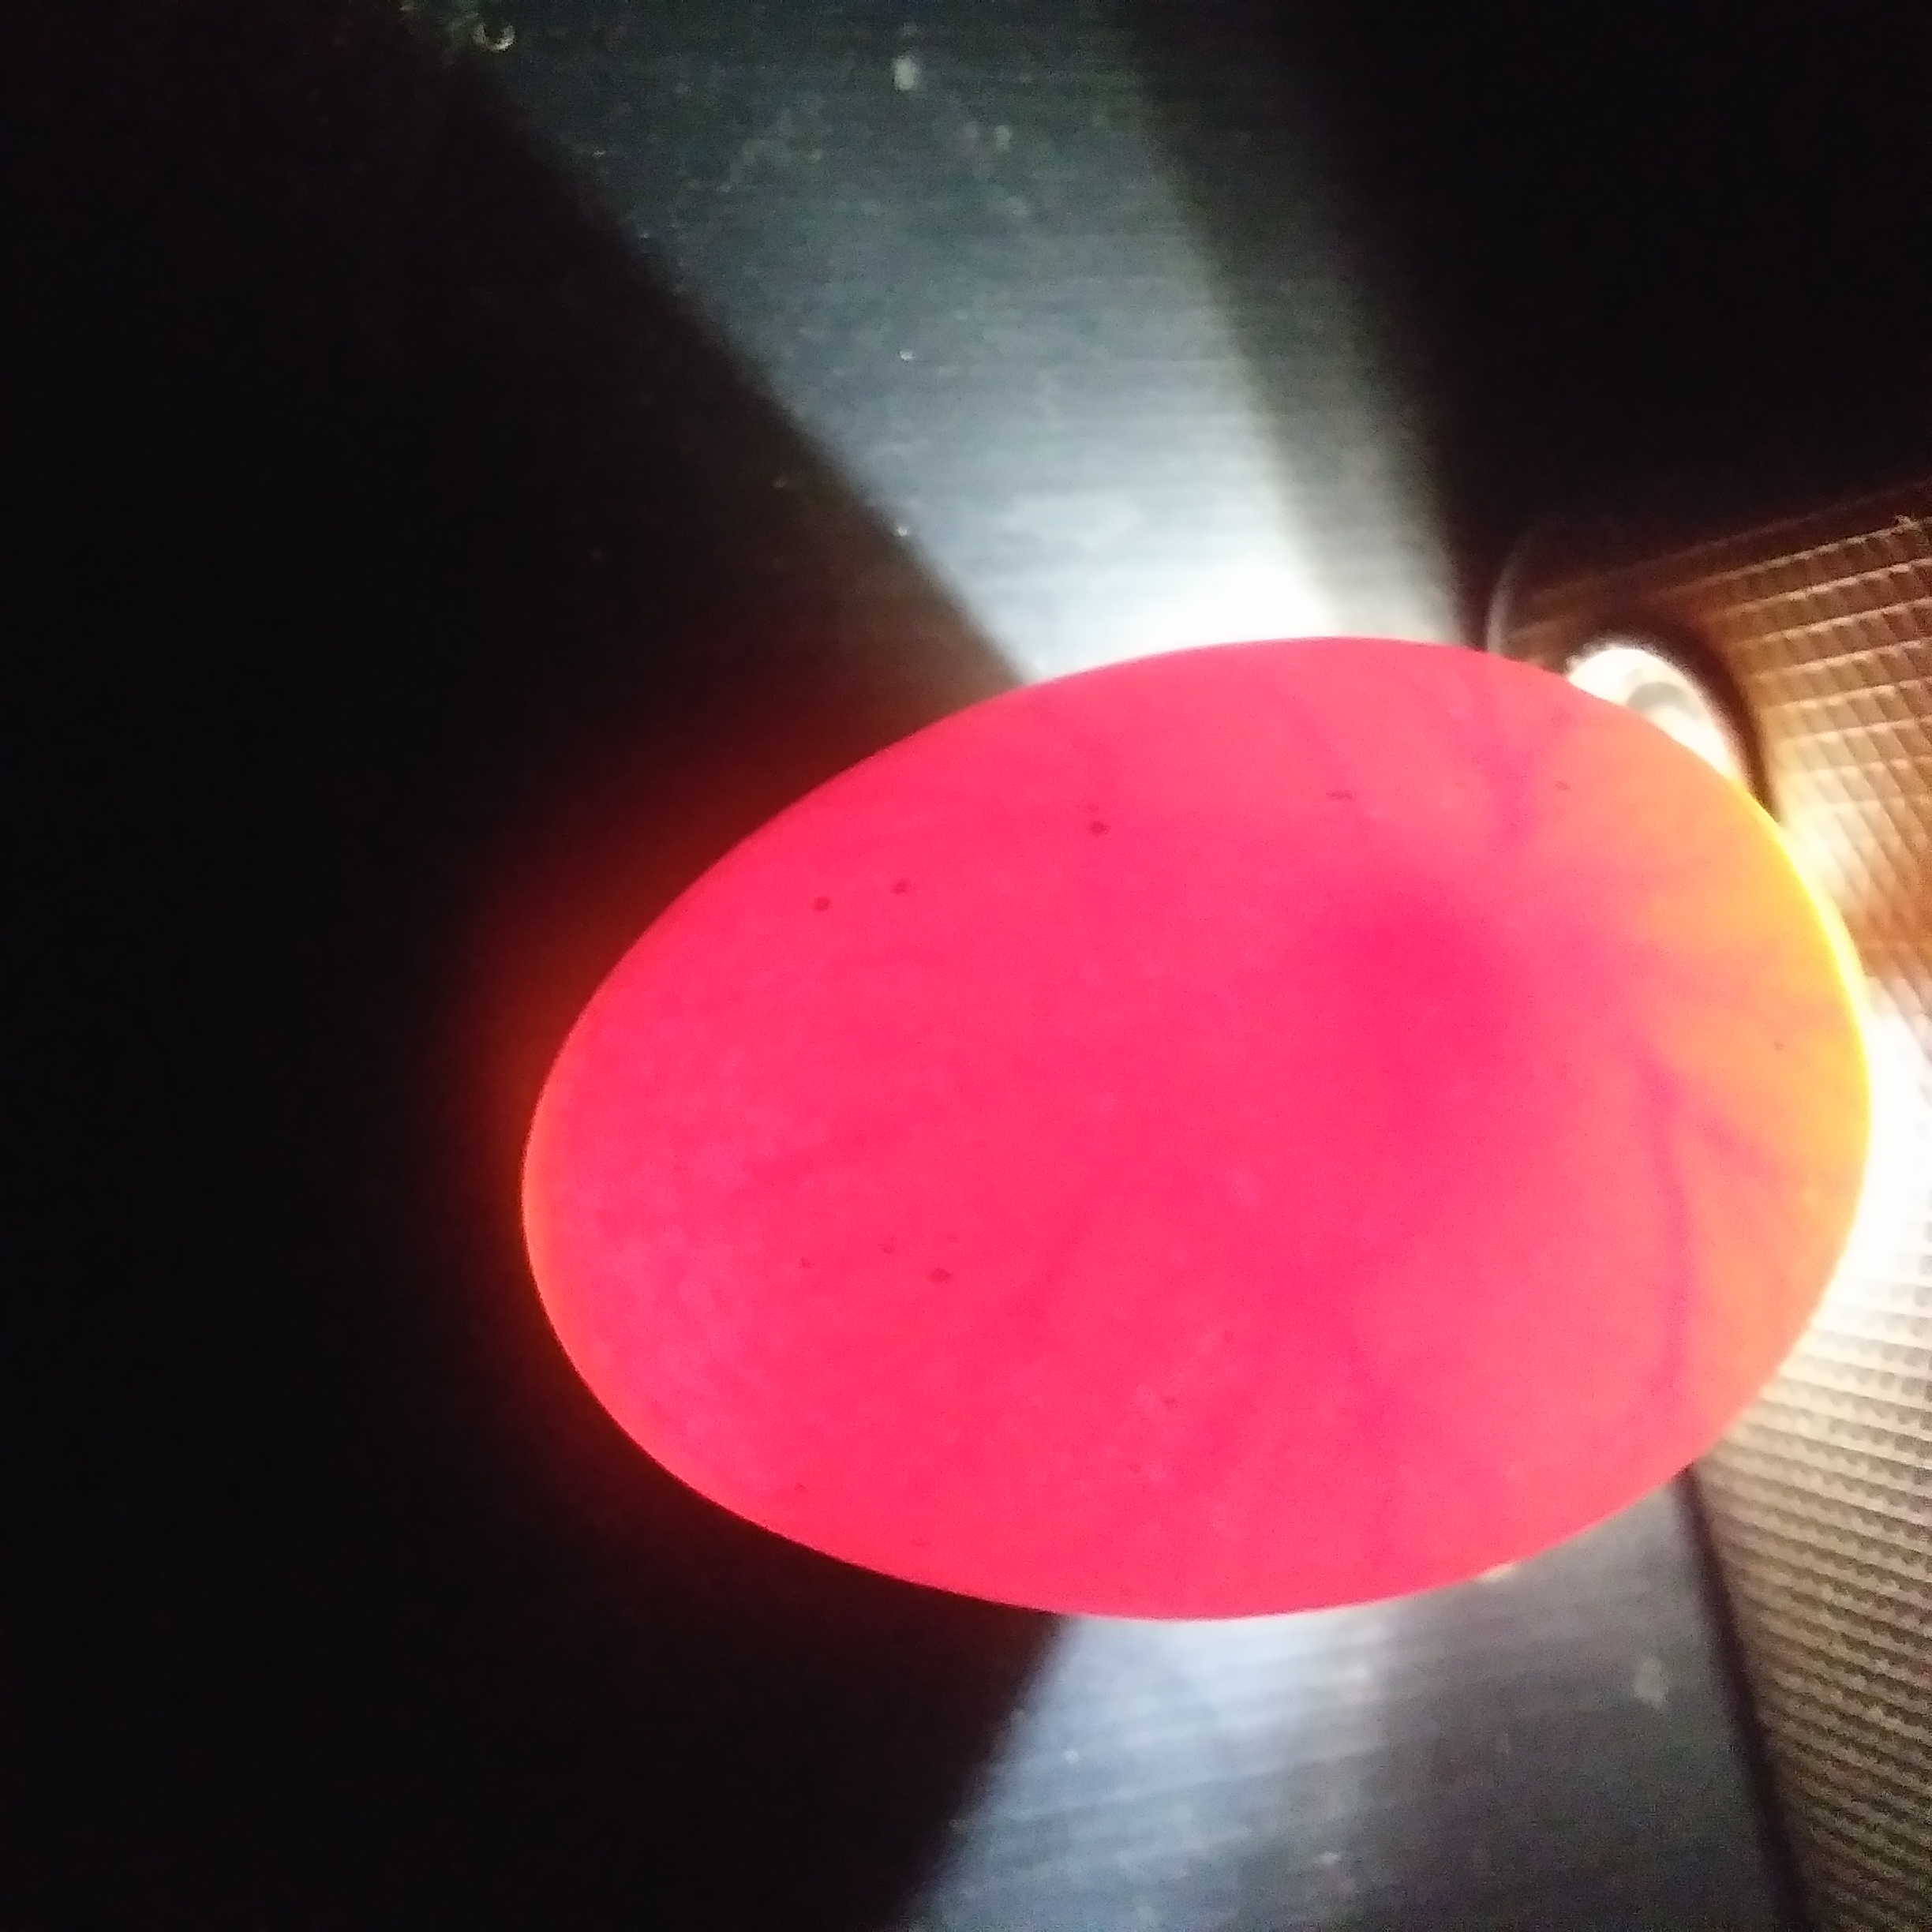bloodcell: (870, 1152, 1702, 1527), (1339, 663, 1578, 839)
embryo: (1376, 885, 1541, 1062)
